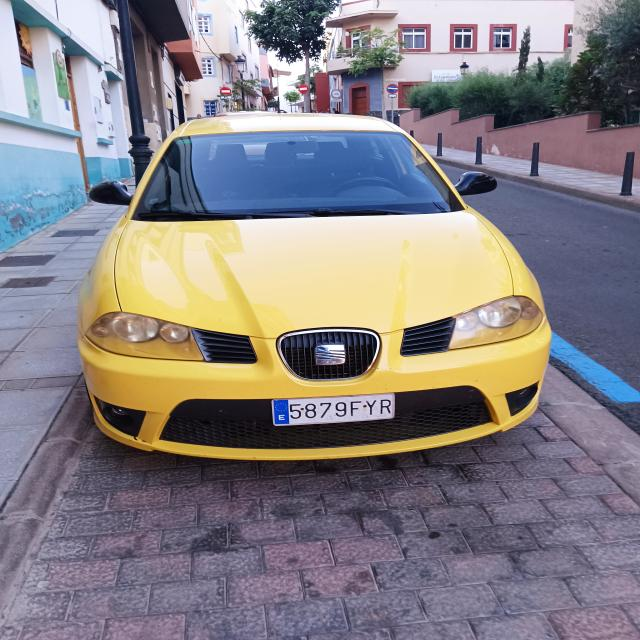football: (271, 394, 396, 426)
